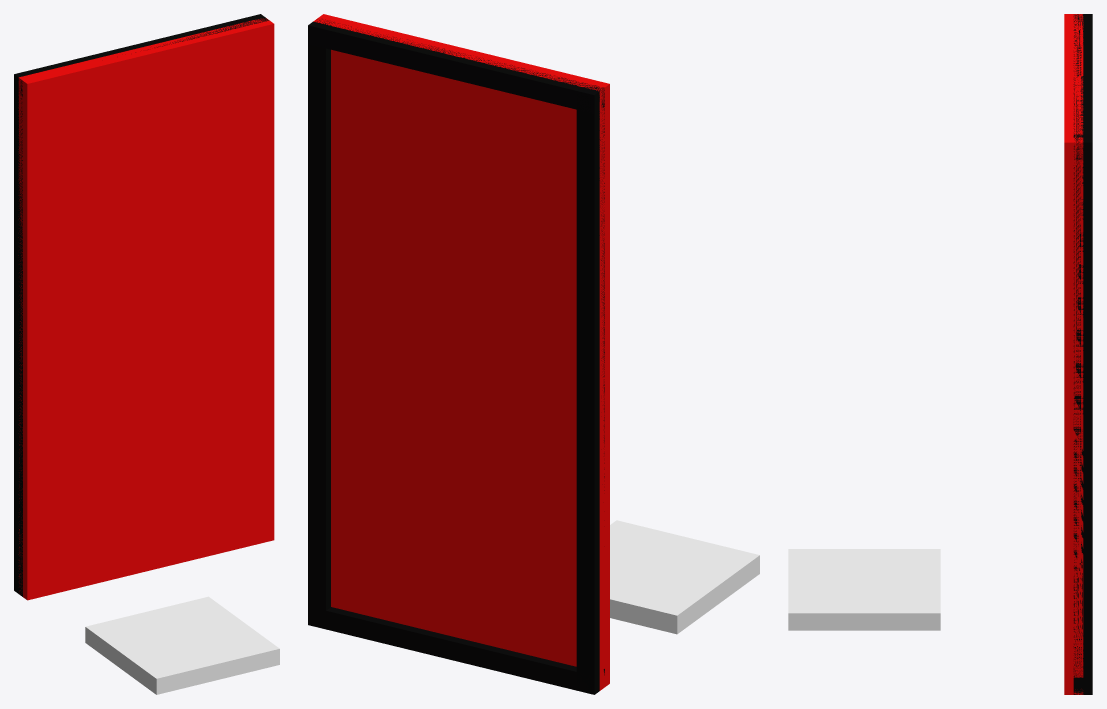
Rendered from wall.gltf.
The picture shows the model from 3 angles, left to right: view 1: azimuth 30°, elevation 25°; view 2: azimuth 150°, elevation 25°; view 3: azimuth 270°, elevation 25°; orthographic projection. The views are drawn at different scales.
Visible parts, largest first — view 1: mesh; view 2: mesh; view 3: mesh.
Boxes of the visible parts, left/top/right/bottom form: mesh: left=14, top=14, right=279, bottom=694; mesh: left=308, top=14, right=759, bottom=694; mesh: left=788, top=14, right=1092, bottom=694.
Size of the model in its own units: 2 by 4 by 2.
3 materials, 2 textured.
